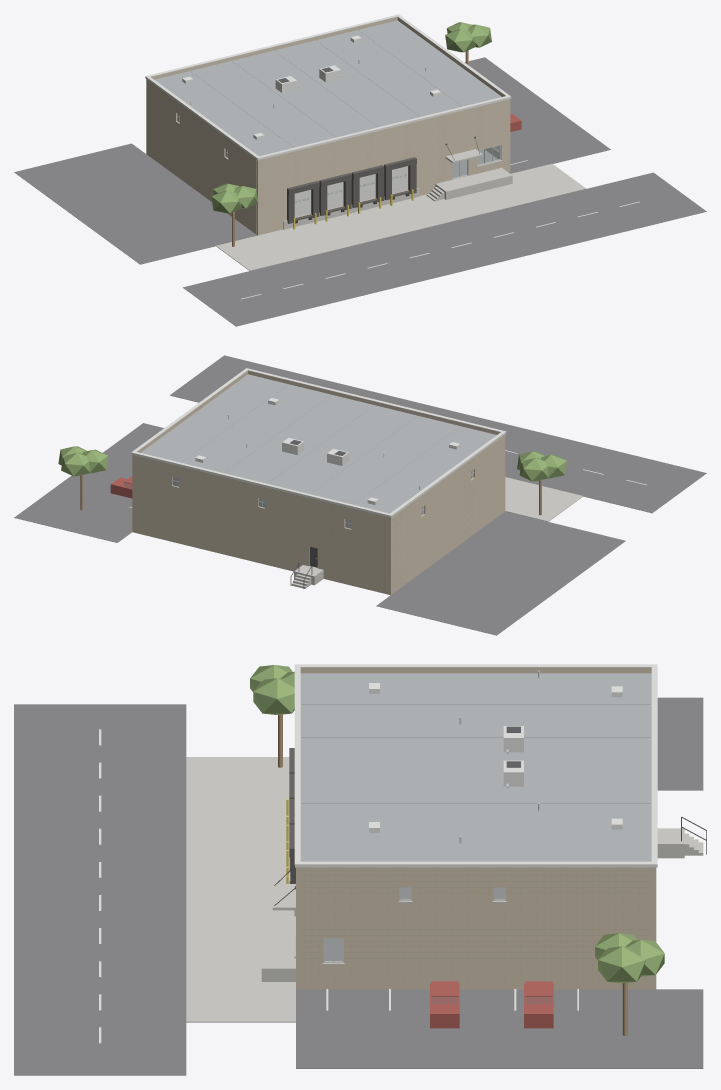
The model's file is clay-cmu-dock-warehouse-clay-v005.glb.
The picture shows the model from 3 angles, top to bottom: view 1: azimuth 30°, elevation 25°; view 2: azimuth 150°, elevation 25°; view 3: azimuth 270°, elevation 25°; orthographic projection. The views are drawn at different scales.
Visible parts, largest first — view 1: CLAY_ASPHALT, CLAY_MEMBRANE, CLAY_WALL, CLAY_CONCRETE, CLAY_PALE, CLAY_DOCK, CLAY_PLANTING, CLAY_DOOR, CLAY_JOINT, CLAY_GLASS, CLAY_ROOF, CLAY_WHITE (+1 smaller); view 2: CLAY_ASPHALT, CLAY_WALL, CLAY_MEMBRANE, CLAY_PALE, CLAY_CONCRETE, CLAY_PLANTING, CLAY_JOINT, CLAY_ROOF; view 3: CLAY_ASPHALT, CLAY_MEMBRANE, CLAY_WALL, CLAY_CONCRETE, CLAY_PALE, CLAY_JOINT, CLAY_PLANTING, CLAY_CAR, CLAY_ROOF, CLAY_WHITE, CLAY_GLASS, CLAY_FLOOR (+1 smaller).
Part boxes in pixels (left/top/right/bottom): CLAY_ASPHALT: left=14, top=57, right=706, bottom=326; CLAY_MEMBRANE: left=154, top=20, right=501, bottom=156; CLAY_WALL: left=146, top=17, right=510, bottom=235; CLAY_CONCRETE: left=216, top=149, right=586, bottom=270; CLAY_PALE: left=145, top=14, right=511, bottom=160; CLAY_DOCK: left=287, top=157, right=416, bottom=223; CLAY_PLANTING: left=211, top=22, right=491, bottom=213; CLAY_DOOR: left=294, top=166, right=407, bottom=217; CLAY_JOINT: left=169, top=99, right=483, bottom=233; CLAY_GLASS: left=177, top=114, right=499, bottom=202; CLAY_ROOF: left=190, top=30, right=462, bottom=147; CLAY_WHITE: left=182, top=35, right=639, bottom=299; CLAY_ASPHALT: left=14, top=355, right=706, bottom=635; CLAY_WALL: left=132, top=371, right=505, bottom=595; CLAY_MEMBRANE: left=141, top=374, right=496, bottom=513; CLAY_PALE: left=131, top=368, right=506, bottom=558; CLAY_CONCRETE: left=291, top=477, right=583, bottom=588; CLAY_PLANTING: left=58, top=446, right=566, bottom=481; CLAY_JOINT: left=142, top=459, right=472, bottom=589; CLAY_ROOF: left=181, top=384, right=460, bottom=504; CLAY_ASPHALT: left=14, top=697, right=703, bottom=1075; CLAY_MEMBRANE: left=301, top=673, right=651, bottom=861; CLAY_WALL: left=296, top=667, right=656, bottom=989; CLAY_CONCRETE: left=186, top=757, right=703, bottom=1022; CLAY_PALE: left=294, top=664, right=657, bottom=867; CLAY_JOINT: left=301, top=868, right=650, bottom=986; CLAY_PLANTING: left=250, top=665, right=664, bottom=983; CLAY_CAR: left=430, top=981, right=553, bottom=1028; CLAY_ROOF: left=301, top=704, right=650, bottom=836; CLAY_WHITE: left=99, top=683, right=622, bottom=1043; CLAY_GLASS: left=324, top=887, right=551, bottom=1003; CLAY_FLOOR: left=300, top=673, right=504, bottom=960.
Bounding box in the file's own units: 57 × 9.48 × 44.23.
